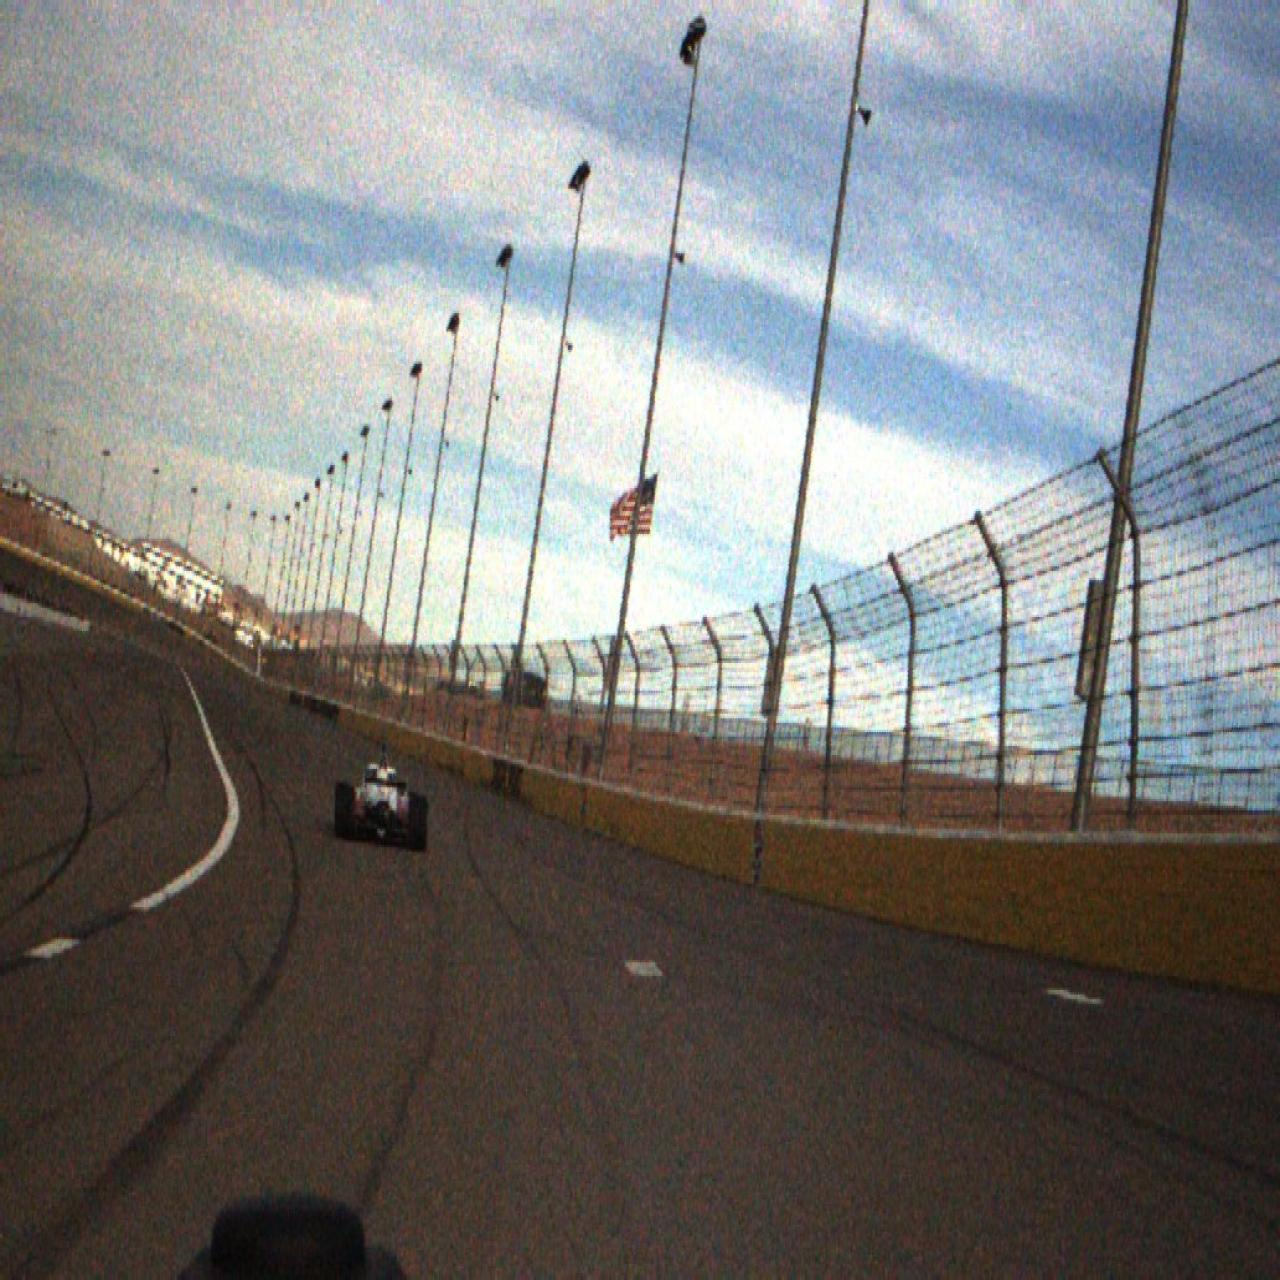AV: (335, 741, 428, 852)
Wheel: (410, 796, 428, 852), (338, 786, 355, 842)
